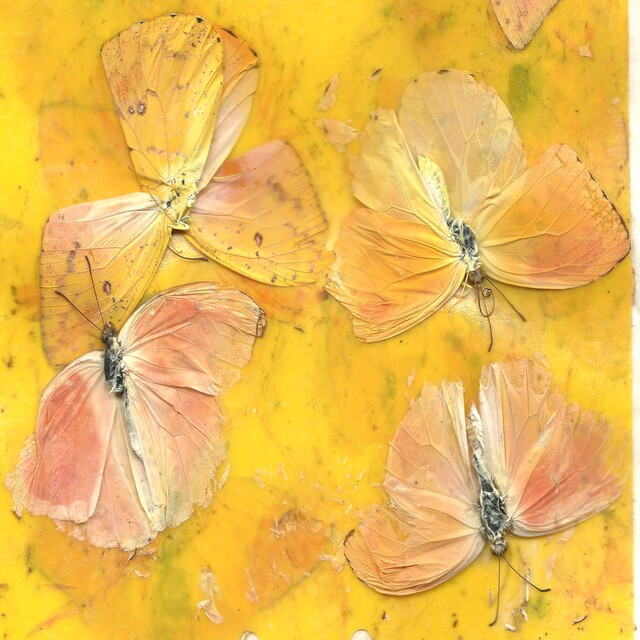Lepidoptera: (39, 13, 339, 370), (326, 69, 631, 350), (342, 358, 626, 627), (9, 256, 265, 552)
